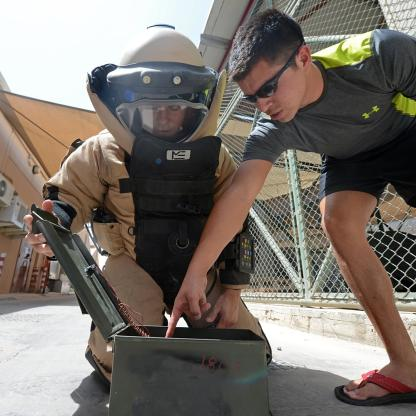Helmet: (83, 41, 228, 148)
